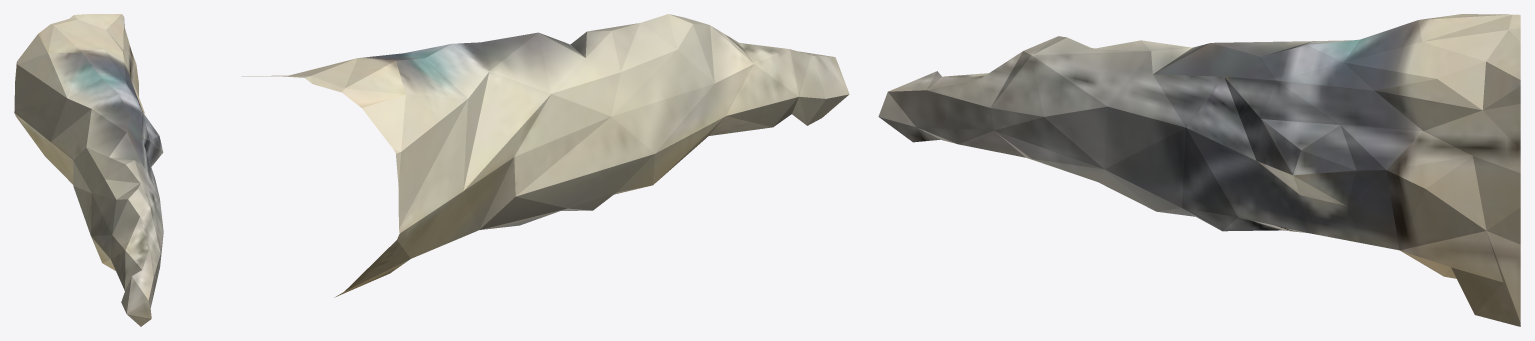
The picture shows the model from 3 angles, left to right: view 1: azimuth 30°, elevation 25°; view 2: azimuth 150°, elevation 25°; view 3: azimuth 270°, elevation 25°; orthographic projection. The views are drawn at different scales.
Bounding box in the file's own units: 0.3806 × 0.2836 × 0.6348.
Materials: 1 (1 with a texture image).
